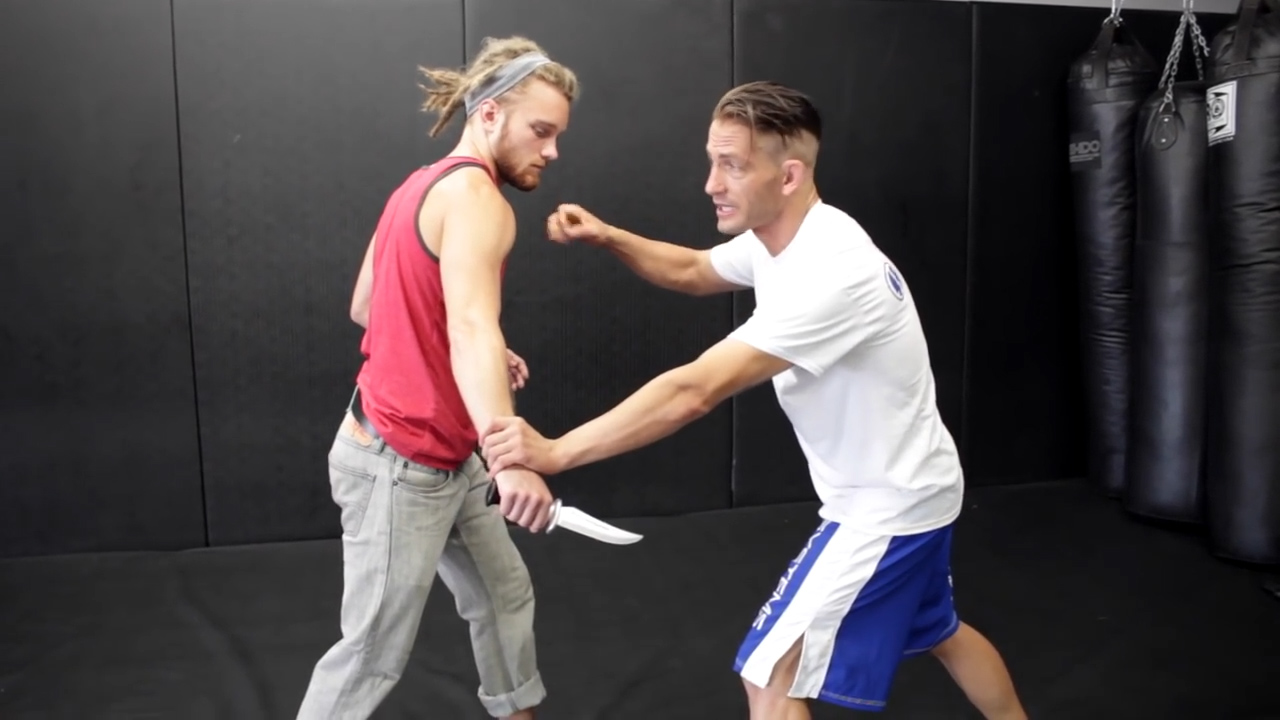knife: (472, 471, 657, 559)
